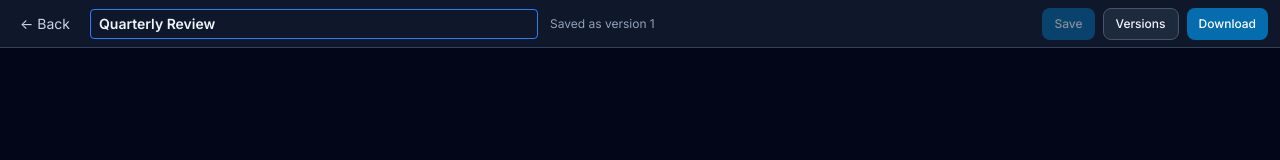
Test case: EditorPage › cancels rename on Escape without sending a PATCH
This screenshot has width=1280, height=160.
Replace the text in the field named "Deck name" with "Do not save this": (314, 24) [90, 8, 538, 38]
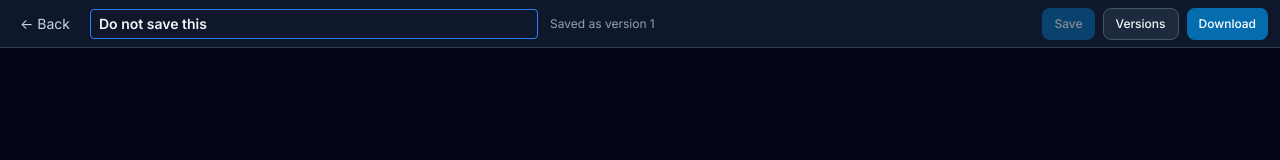
Press Escape in the field named "Deck name", box [90, 8, 538, 38]
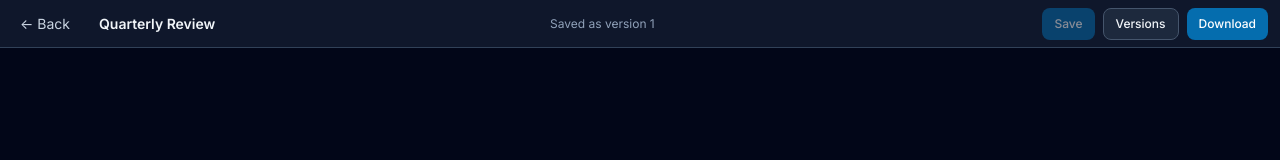
Check: the field named "Deck name" holds "Quarterly Review", box [90, 8, 538, 38]
